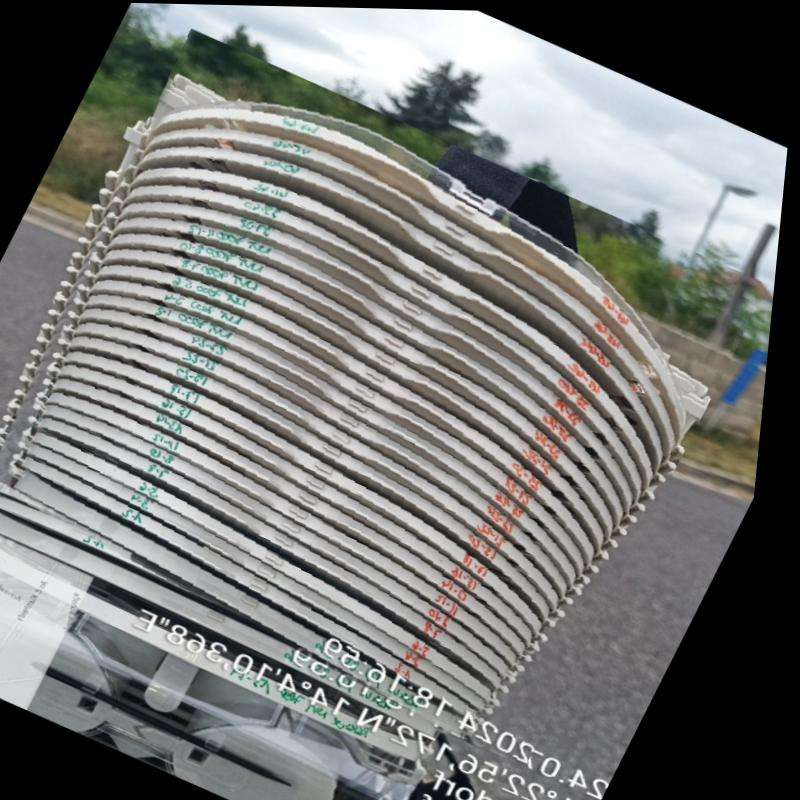NT-Muffen: (0, 79, 723, 727)
